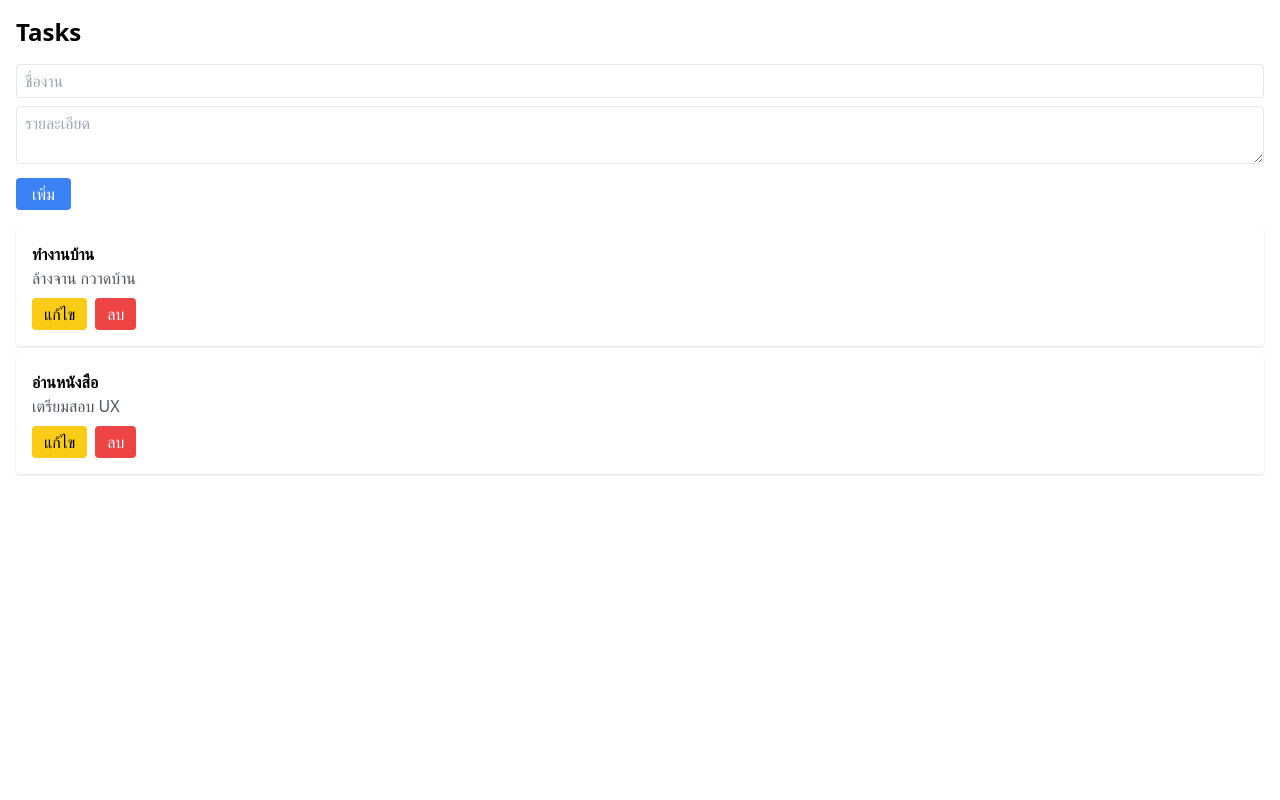
Test: Tasks page (API CRUD tests) › creates a new task using the API
Type "ไปวิ่ง" into the field named "title" at (640, 81), box top-left (16, 64), bottom-right (1264, 98)
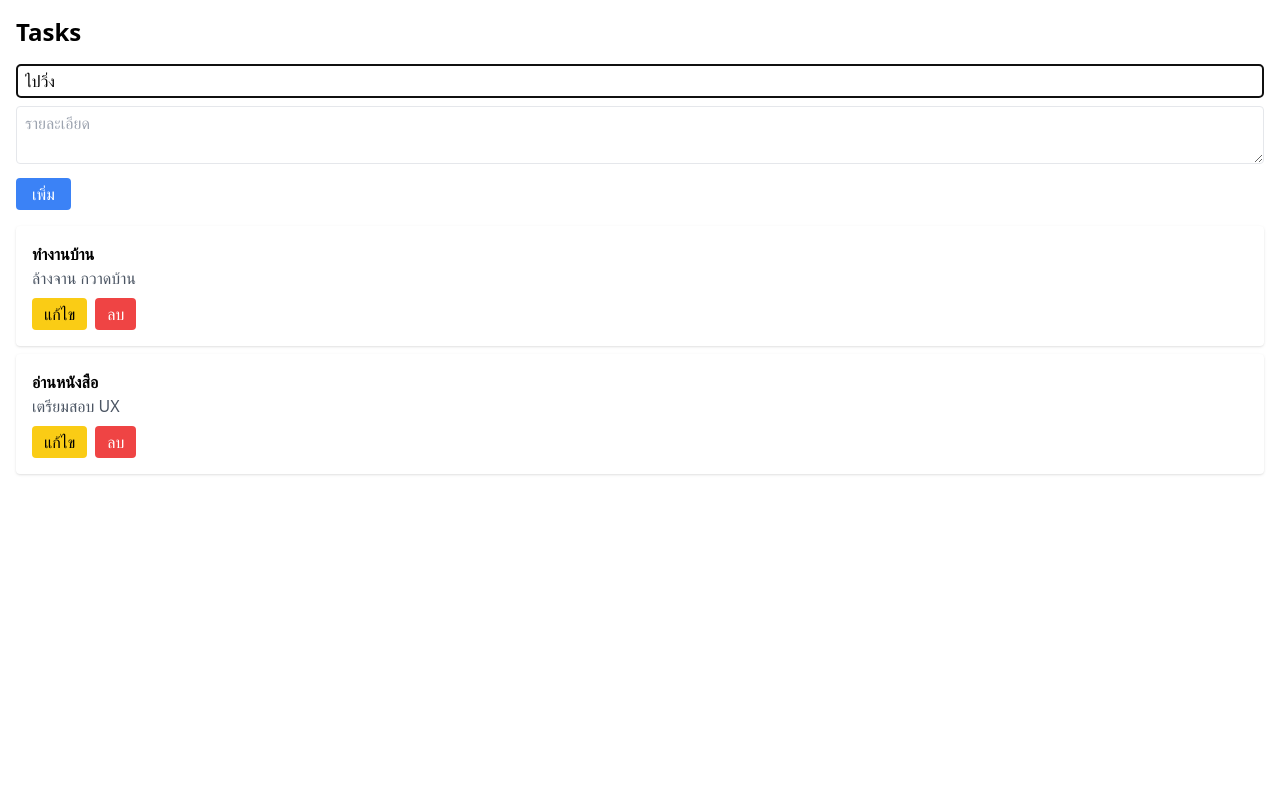
Type "ตอนเช้า" into the text box named "description" at (640, 135), box top-left (16, 106), bottom-right (1264, 164)
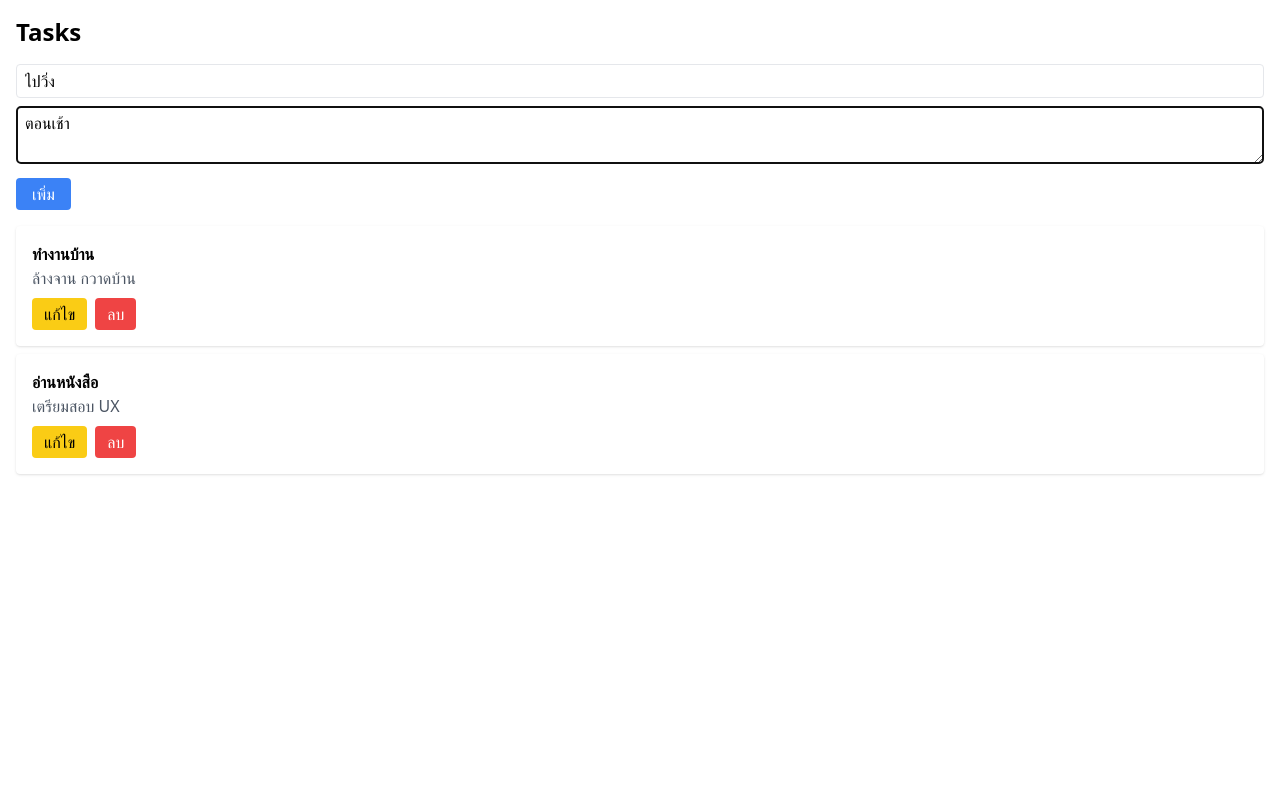
Click the button "เพิ่ม" at (44, 194), box top-left (16, 178), bottom-right (71, 210)
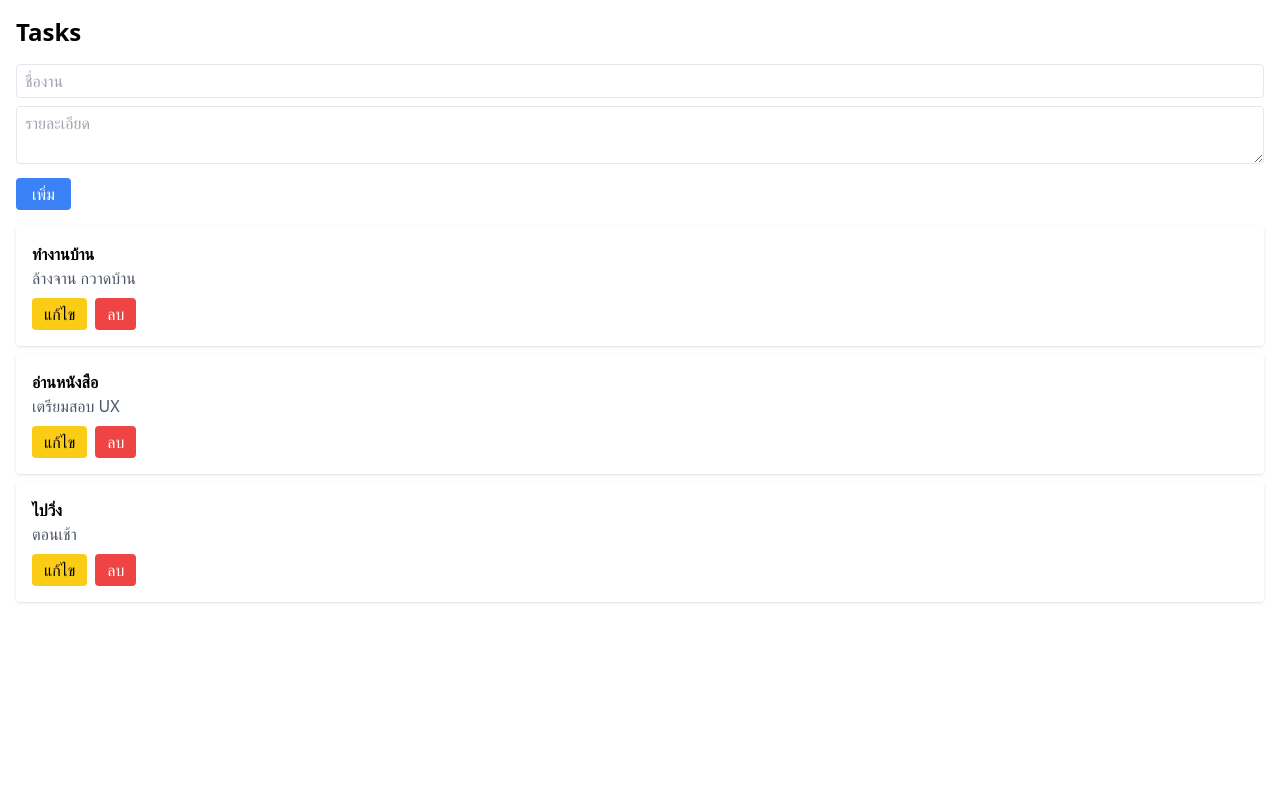
Expected: the text "ไปวิ่ง" is shown, top-left (32, 499), bottom-right (62, 521)
Expected: the text "ตอนเช้า" is shown, top-left (32, 523), bottom-right (77, 545)
